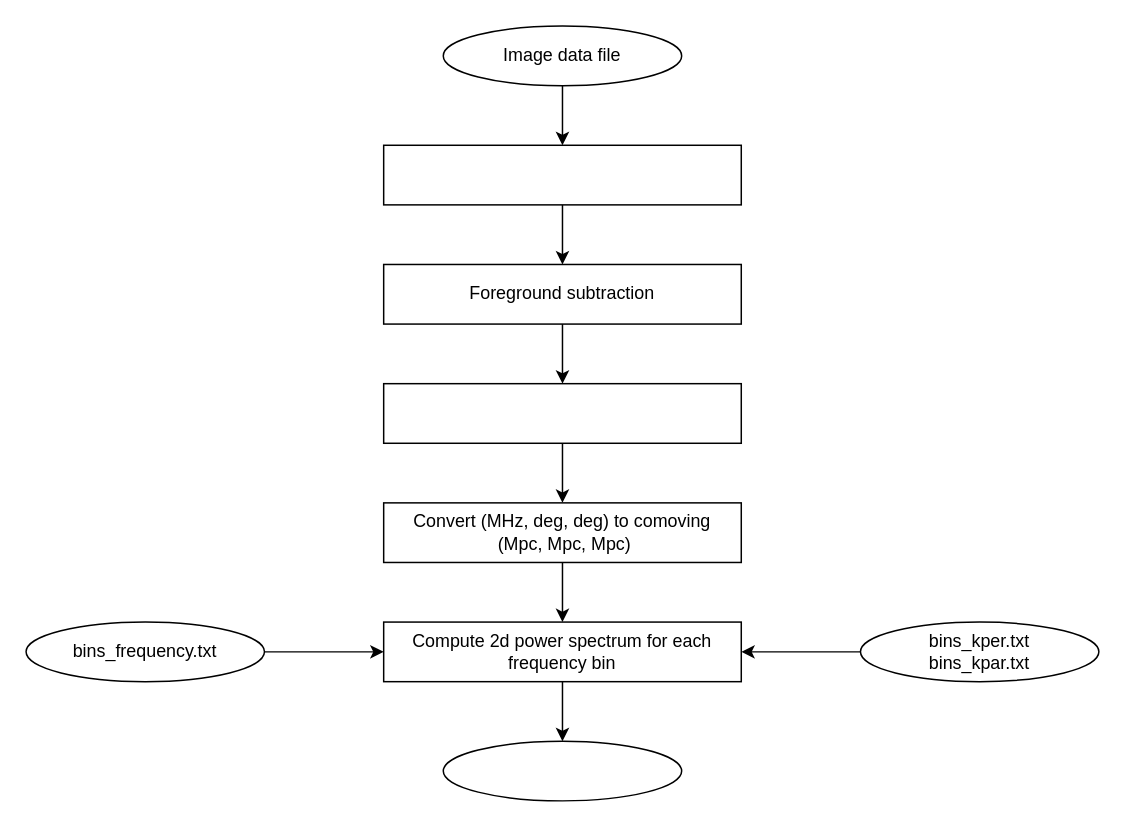
Image size: 1125x827. Some labels were removed from this diagram. Here are the shapes that lost their labels. From the top down, the centre of each, then its label:
pixel 561 174: Read in image data
pixel 561 412: Convert the image data from Jy/beam to K
pixel 562 770: 2d power spectrum and error
